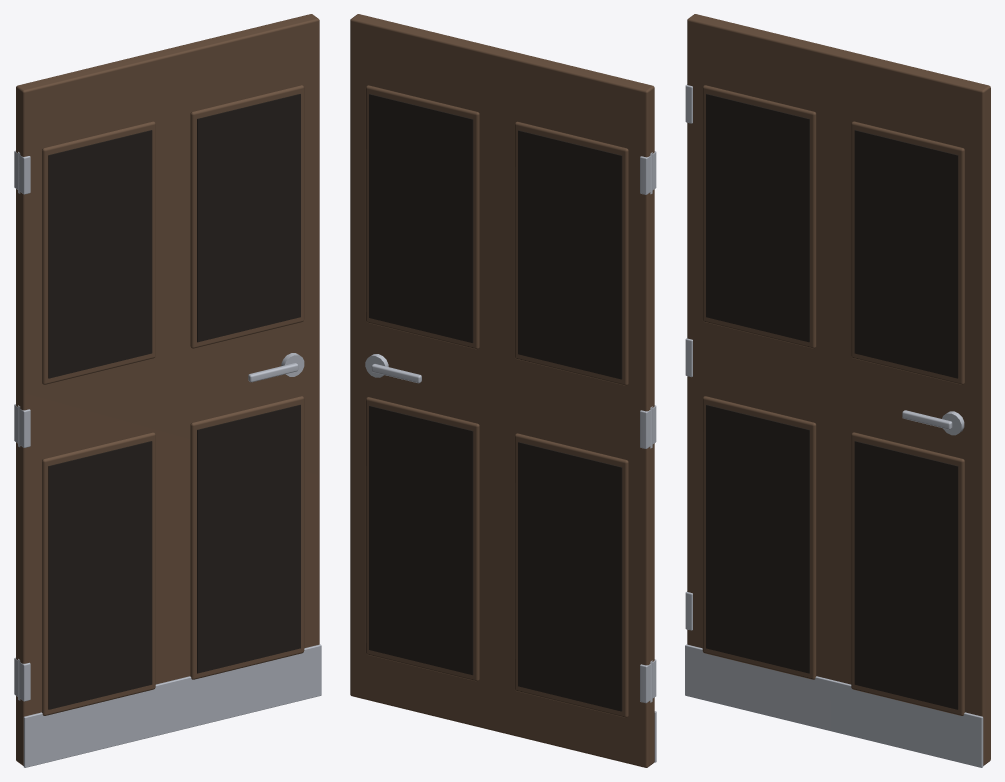
The model's file is DoorSlab.fbx.
3 views of the same model, side by side, from view 1: azimuth 30°, elevation 25°; view 2: azimuth 150°, elevation 25°; view 3: azimuth 330°, elevation 25° (orthographic).
Visible parts, largest first — view 1: DoorSlab; view 2: DoorSlab; view 3: DoorSlab.
Part boxes in pixels (<box>): DoorSlab: <box>14,14,321,767</box>; DoorSlab: <box>350,14,656,767</box>; DoorSlab: <box>685,14,990,767</box>.
Bounding box in the file's own units: 0.0923 × 0.2 × 0.0108.
